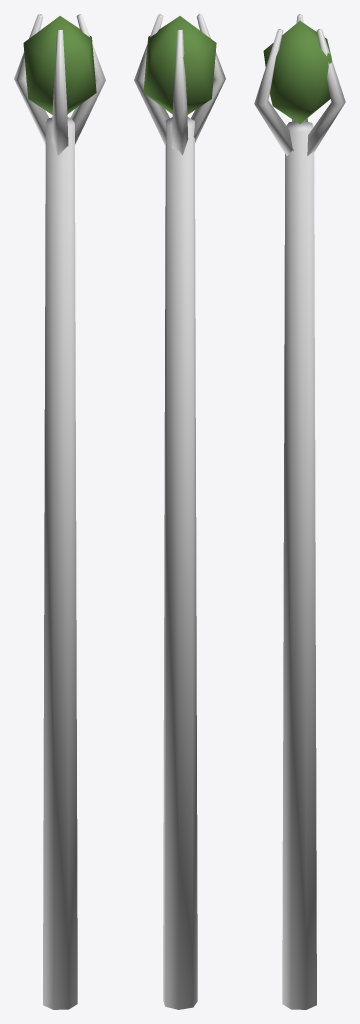
File: pygmy_staff.glb
The picture shows the model from 3 angles, left to right: view 1: azimuth 30°, elevation 25°; view 2: azimuth 150°, elevation 25°; view 3: azimuth 330°, elevation 25°; orthographic projection.
Parts seen in each view (by area): view 1: pygmy_staff_v0; view 2: pygmy_staff_v0; view 3: pygmy_staff_v0.
Part boxes in pixels (box(x1,y1,x2,y2)): pygmy_staff_v0: box(14, 14, 105, 1009); pygmy_staff_v0: box(134, 14, 225, 1009); pygmy_staff_v0: box(254, 14, 345, 1009).
Size of the model in its own units: 0.1164 by 1.46 by 0.1182.
